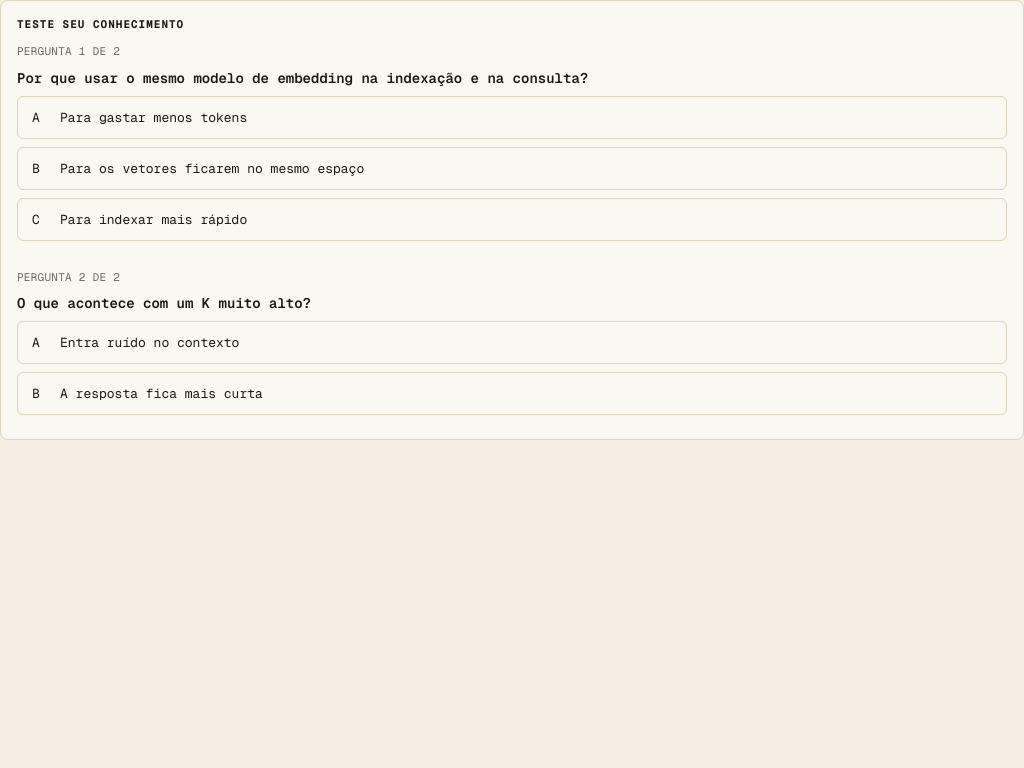
Test: KnowledgeCheck (LES-01.12) › resposta certa mostra o acerto e a explicação na hora
Click the button "Para os vetores ficarem no mesmo espaço". click: [212, 168]
box: [17,146,1007,190]
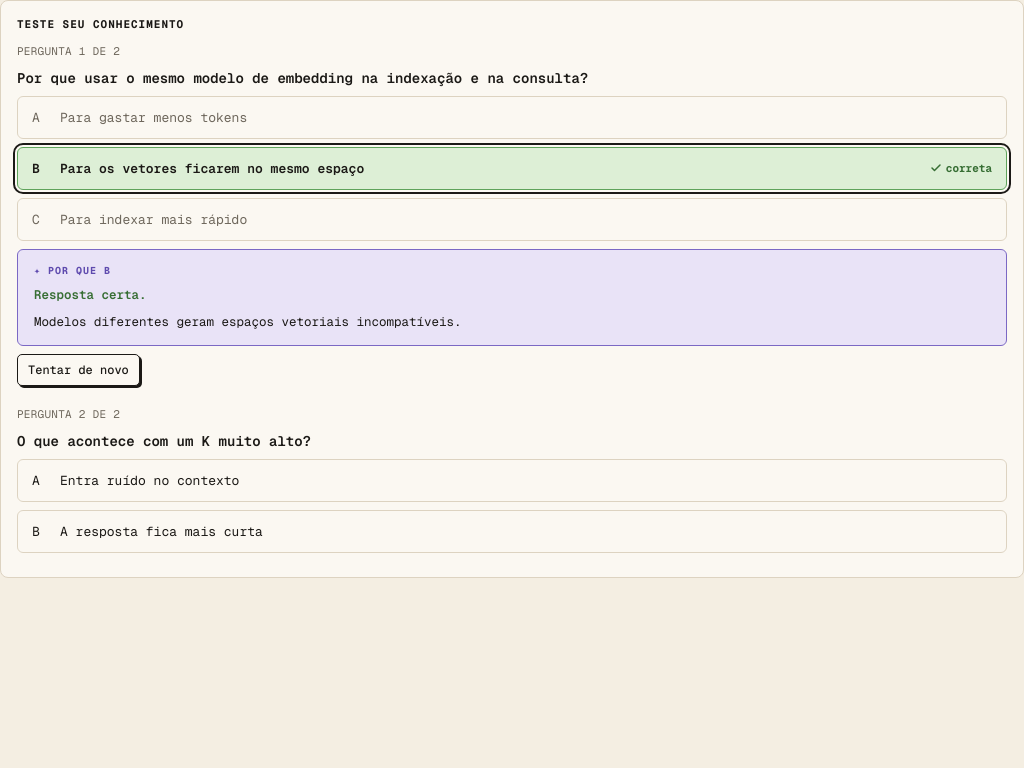
Expected: the message shows "Resposta certa.", [34,286,146,302]
Expected: the message shows "Modelos diferentes geram espaços vetoriais incompatíveis.", [34,313,462,330]
